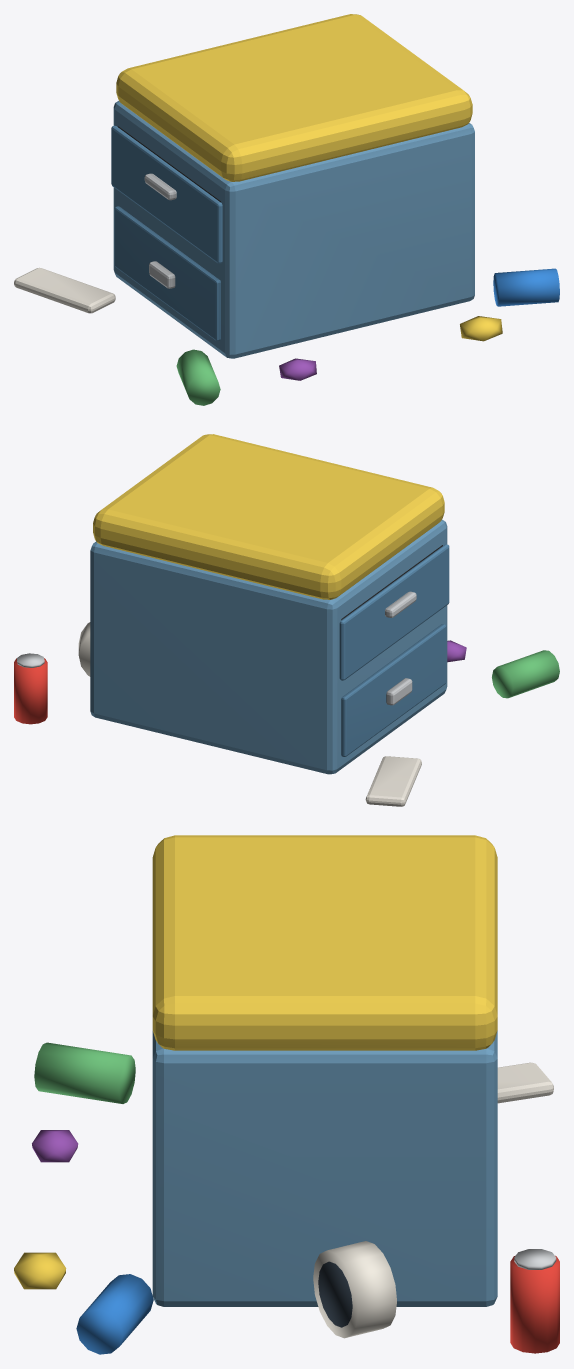
File: snackNightstand.glb
3 views of the same model, one above another, from view 1: azimuth 30°, elevation 25°; view 2: azimuth 150°, elevation 25°; view 3: azimuth 270°, elevation 25° (orthographic). The views are drawn at different scales.
Parts seen in each view (by area): view 1: body, drawer; view 2: body, drawer; view 3: body.
Part boxes in pixels (box(x1,y1,x2,y2)): body: box(14, 14, 559, 405); drawer: box(111, 125, 222, 263); body: box(14, 434, 559, 806); drawer: box(339, 544, 449, 680); body: box(14, 835, 559, 1354).
Bounding box in the file's own units: 0.8967 × 0.45 × 0.7277.
